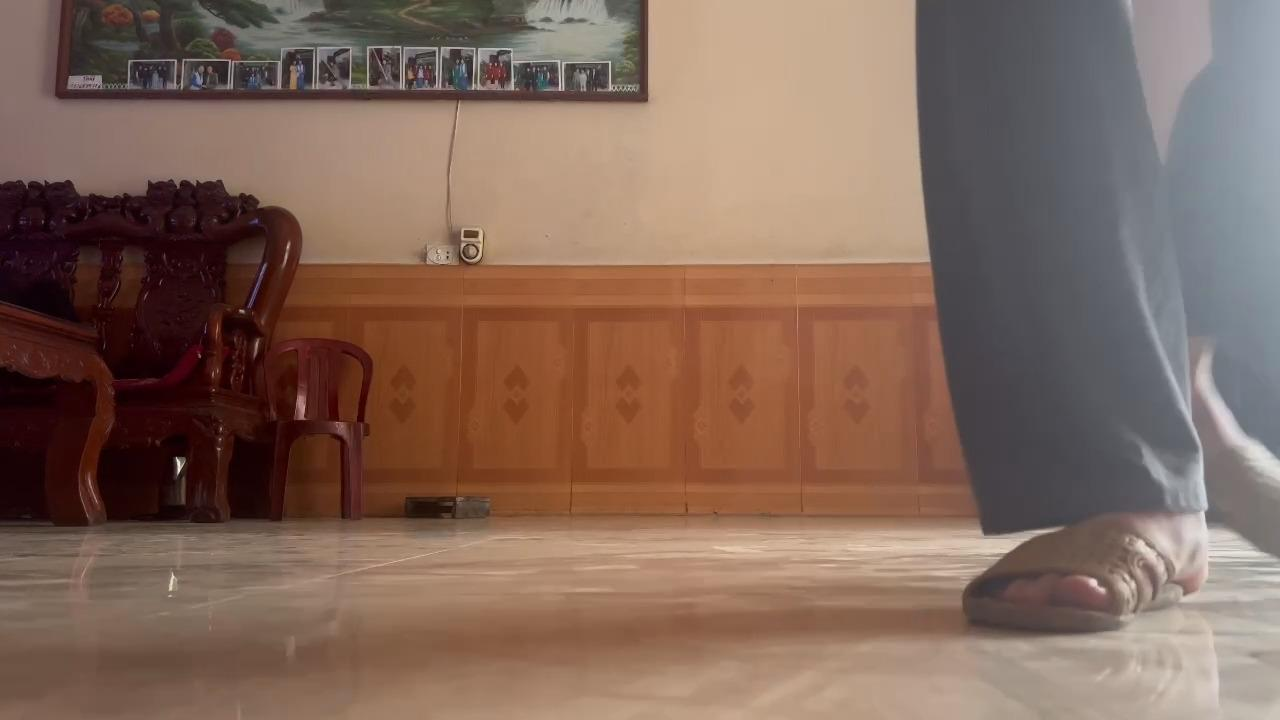no-boot: (949, 521, 1212, 636), (1206, 400, 1280, 566)
